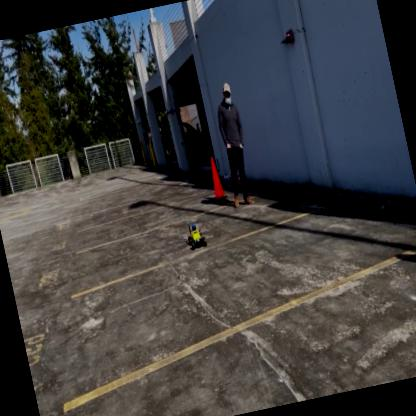cone: (205, 153, 227, 201)
mushr_car: (184, 220, 208, 254)
